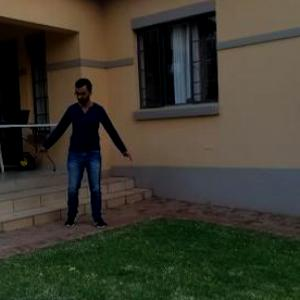land: (39, 82, 134, 232)
